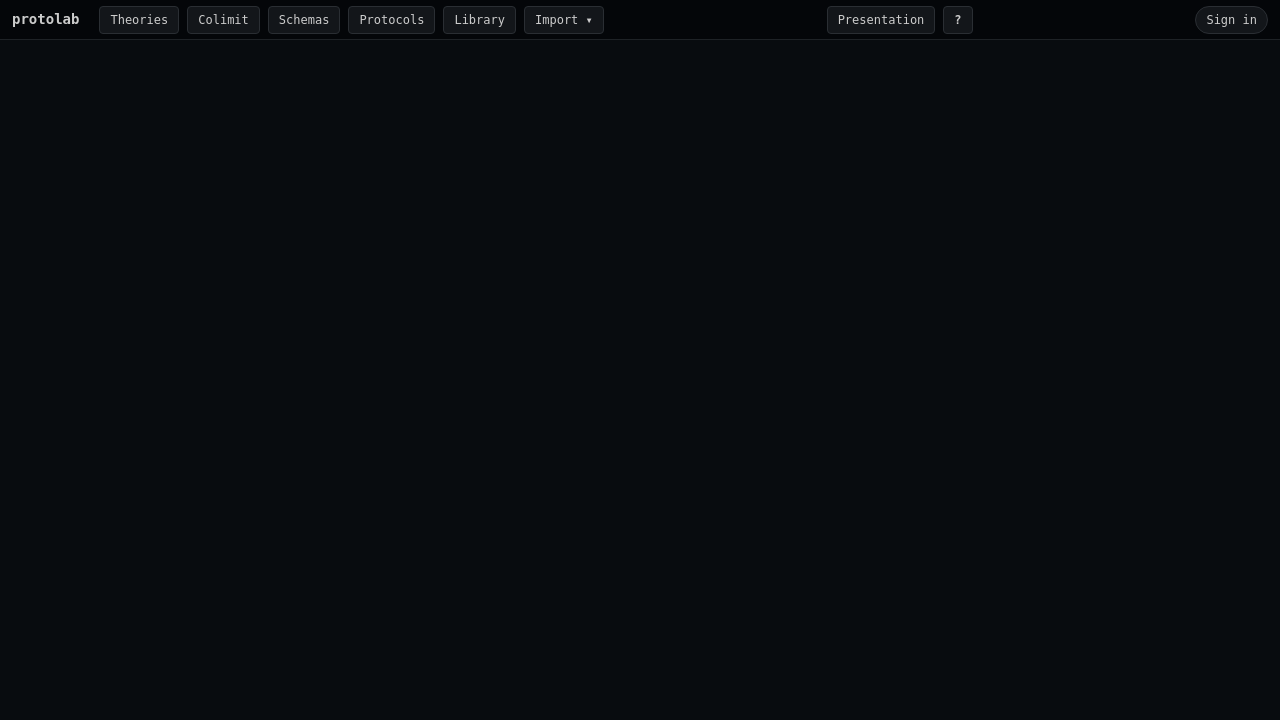
Test: Toolbar › clicking Schemas opens the SchemaBrowser modal
What coordinates should you click on to do the following:
click the button "Schemas"
I would click on:
 (304, 20)
Its box is [268,6,340,34].
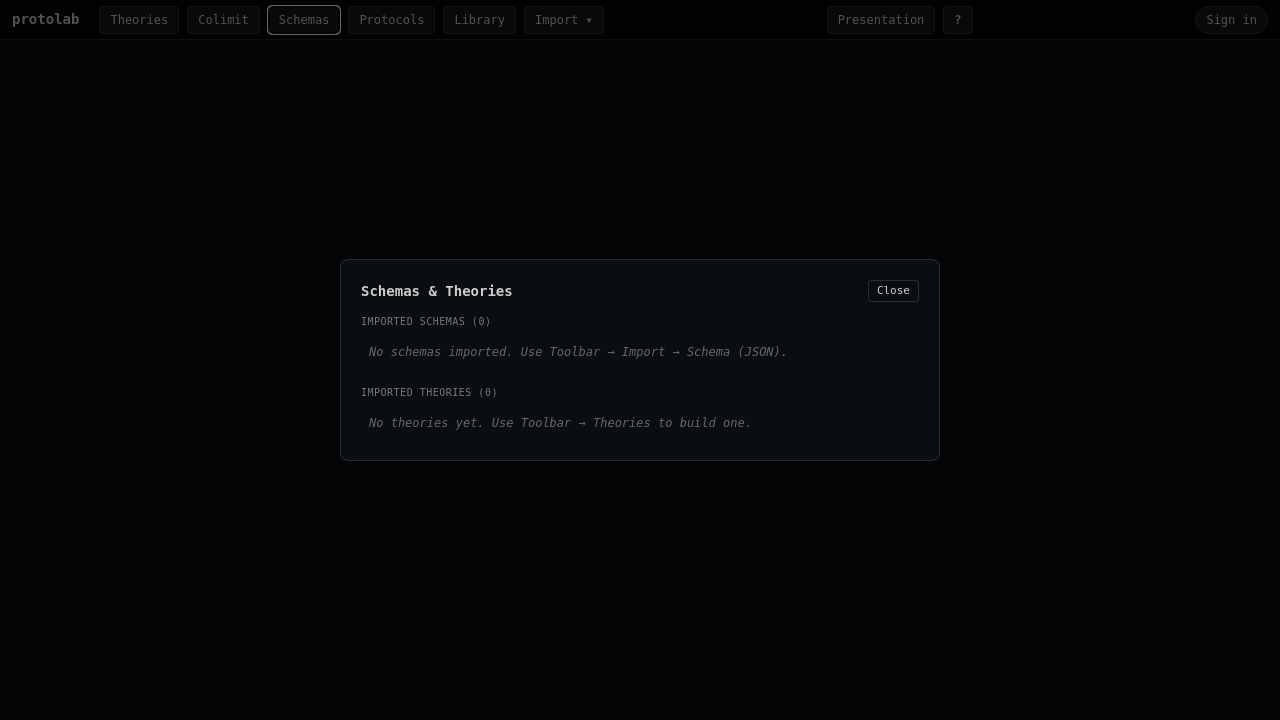
Expected: the text "Schemas & Theories" is shown, [361,280,513,302]
